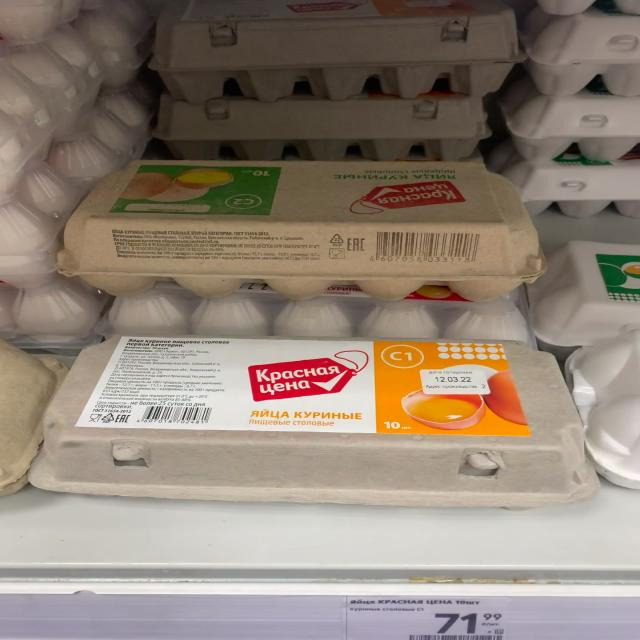egg box: (50, 325, 604, 512), (61, 160, 544, 303)
